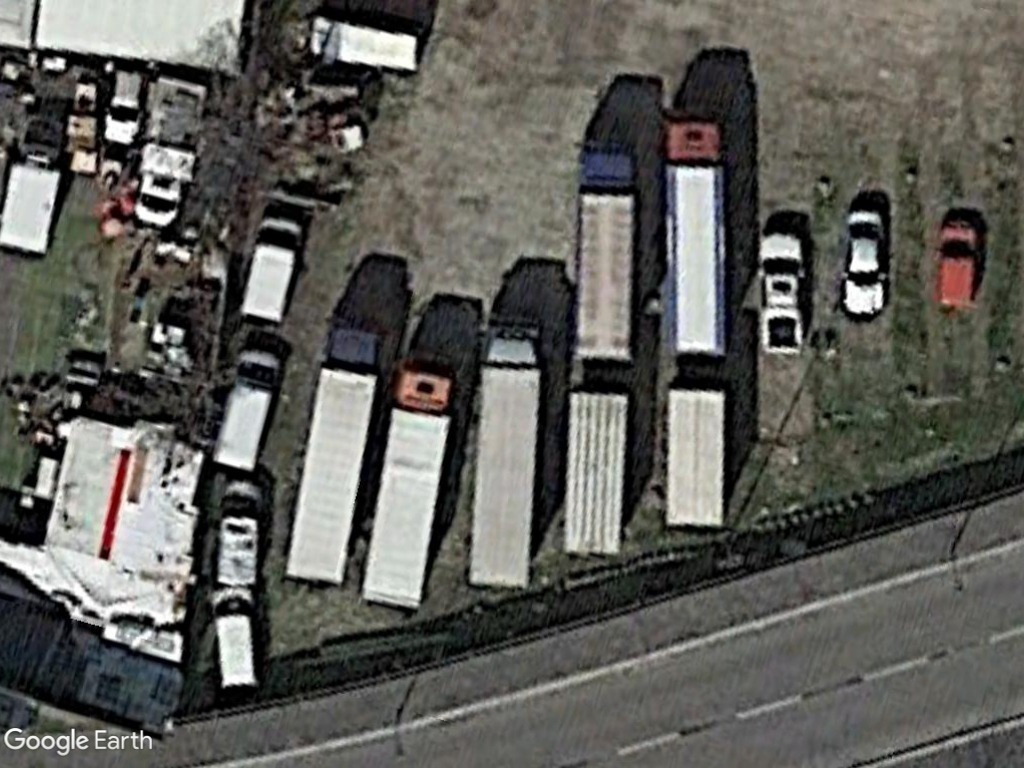car: (755, 226, 811, 358), (836, 207, 893, 322), (930, 213, 984, 314)
longvehicle: (650, 97, 736, 534), (559, 133, 637, 565), (283, 326, 383, 588), (358, 347, 456, 613), (455, 310, 546, 596)
truck: (577, 138, 641, 371), (207, 351, 285, 476), (229, 217, 308, 327), (207, 586, 263, 694)
